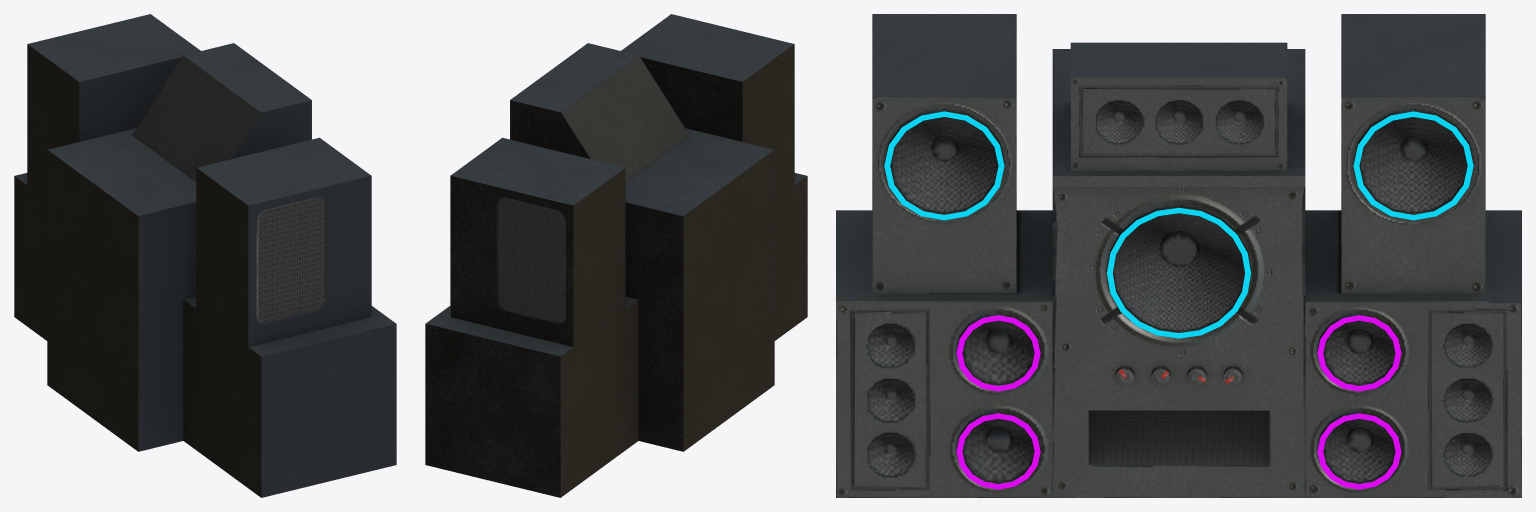
File: Speaker asset.glb
3 views of the same model, side by side, from view 1: azimuth 30°, elevation 25°; view 2: azimuth 150°, elevation 25°; view 3: azimuth 270°, elevation 25° (orthographic). The views are drawn at different scales.
Visible parts, largest first — view 1: Speaker; view 2: Speaker; view 3: Speaker.
Boxes of the visible parts, x1,y1,x2,y2 form: Speaker: (14,14,396,497); Speaker: (425,14,807,497); Speaker: (836,14,1521,497).
Size of what is drawn, in the model's own units: 1.27 by 1.96 by 2.9.
Materials: 3 (1 with a texture image).
